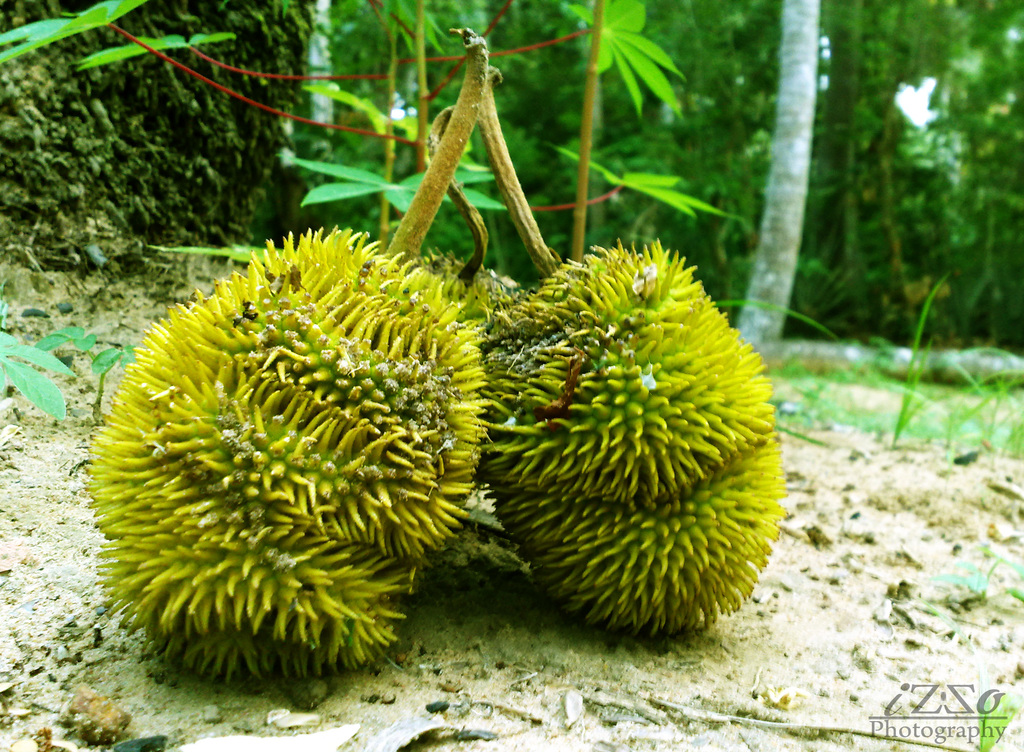Tree: (0, 0, 1024, 341)
